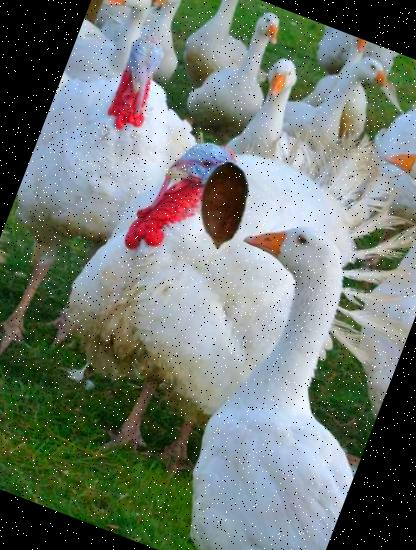Nut: (166, 149, 280, 264)
